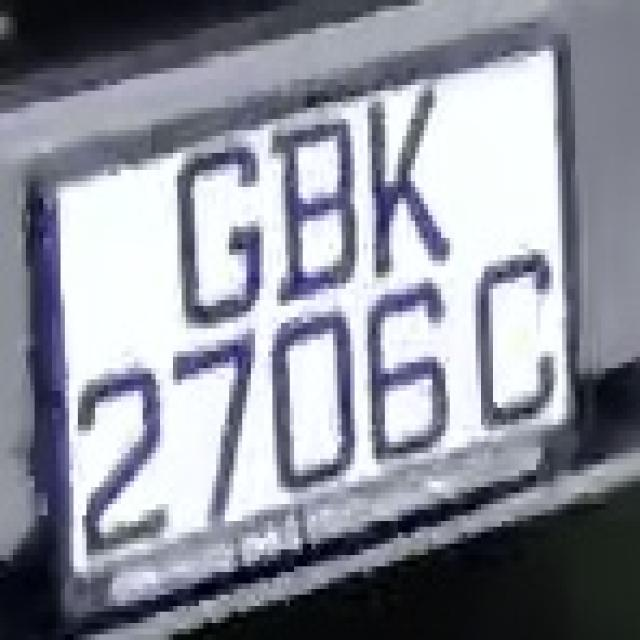0: (264, 328, 363, 498)
2: (52, 362, 182, 584)
6: (354, 277, 462, 498)
7: (156, 323, 268, 538)
B: (277, 108, 359, 312)
C: (467, 238, 579, 436)
G: (168, 136, 276, 345)
K: (350, 57, 446, 283)
